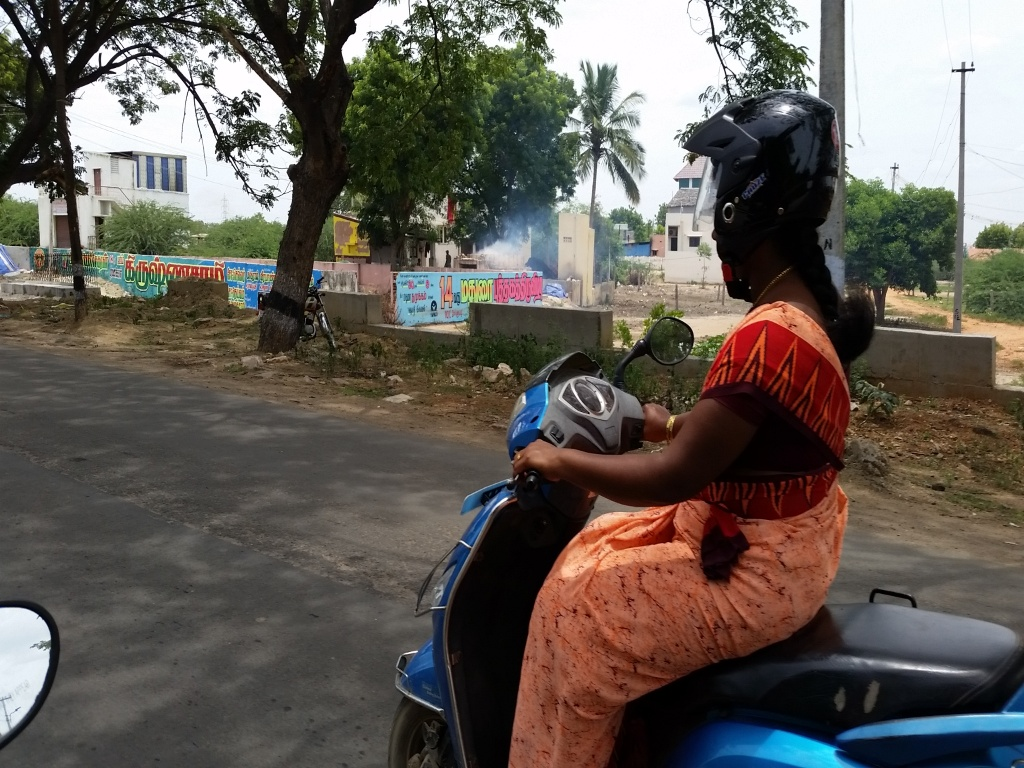biker: (362, 1, 1024, 768)
helmet: (665, 70, 865, 320)
